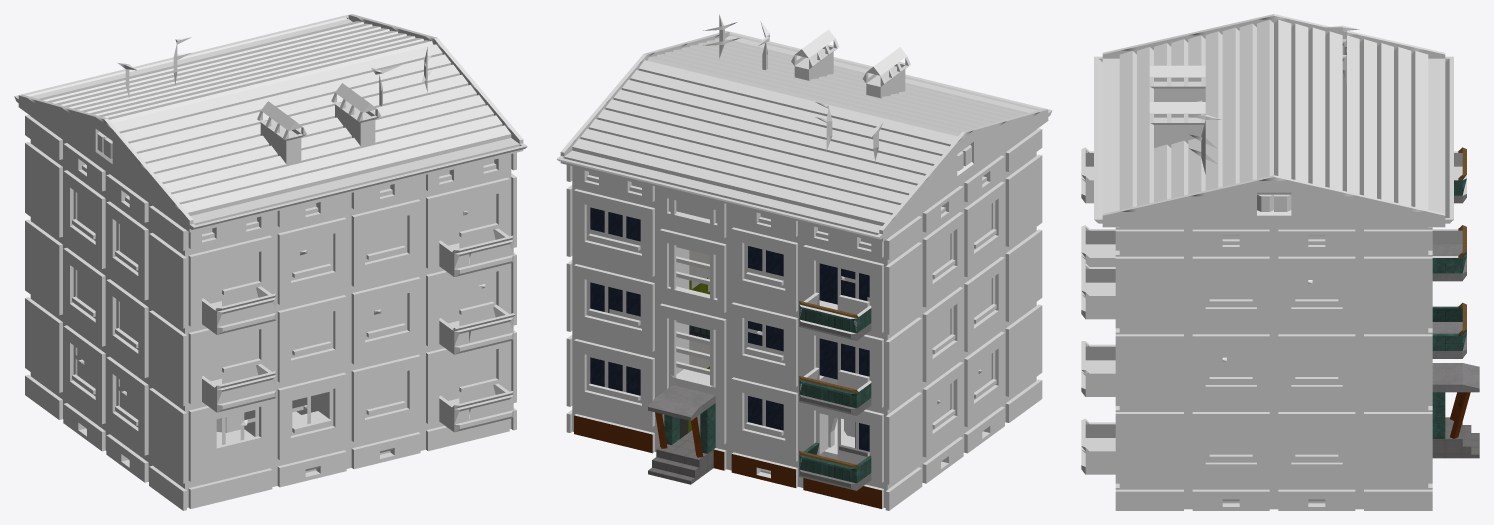
The model's file is mnogoetaz michal.fbx.
3 views of the same model, side by side, from view 1: azimuth 30°, elevation 25°; view 2: azimuth 150°, elevation 25°; view 3: azimuth 270°, elevation 25° (orthographic). The views are drawn at different scales.
Visible parts, largest first — view 1: здание; view 2: здание; view 3: здание.
Part boxes in pixels (x1,y1,x2,y2): здание: (14, 14, 527, 510); здание: (557, 14, 1052, 510); здание: (1081, 14, 1479, 510).
Size of the model in its own units: 2250 by 2325 by 2325.
